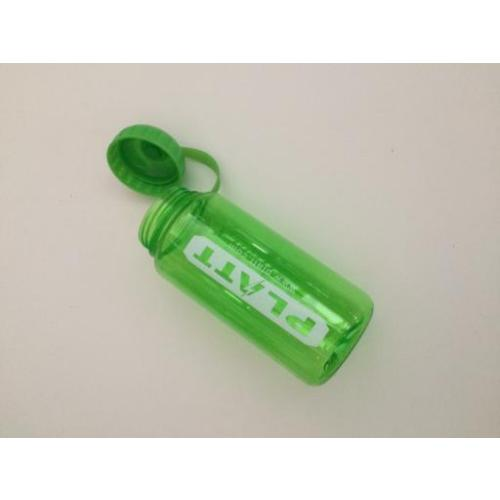plastic: (140, 181, 372, 383)
